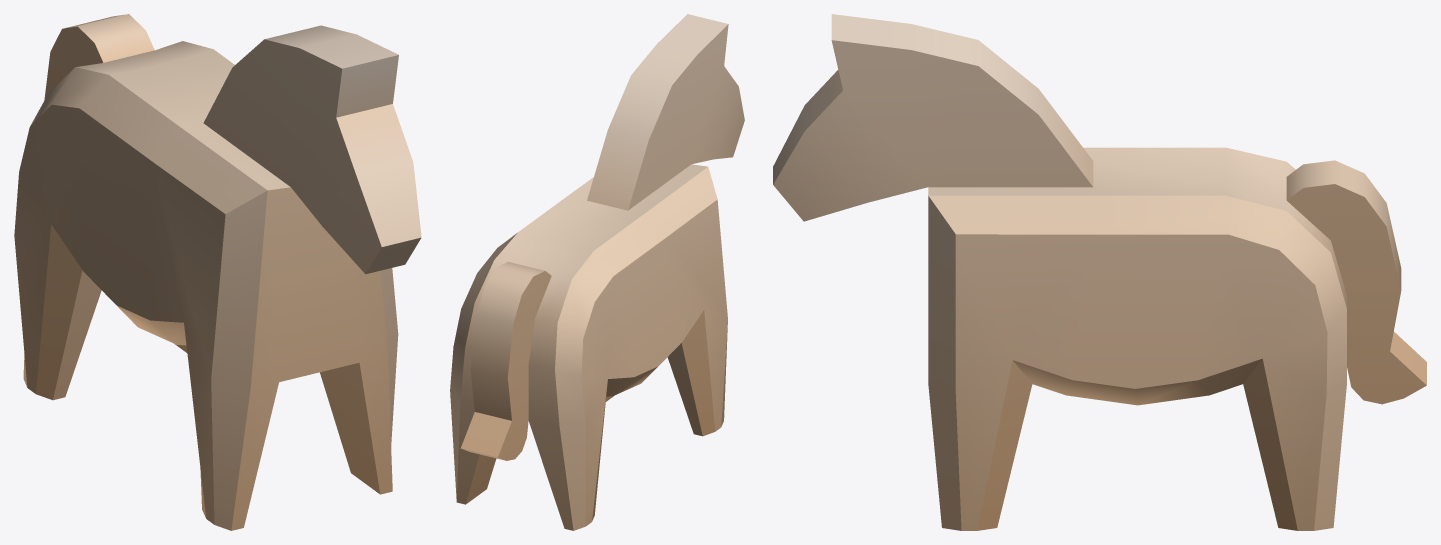
File: horse_a.glb
3 views of the same model, side by side, from view 1: azimuth 30°, elevation 25°; view 2: azimuth 150°, elevation 25°; view 3: azimuth 270°, elevation 25° (orthographic). The views are drawn at different scales.
Parts seen in each view (by area): view 1: horse_A; view 2: horse_A; view 3: horse_A.
Boxes of the visible parts, x1,y1,x2,y2 form: horse_A: (14,14,421,530); horse_A: (450,14,744,530); horse_A: (773,14,1426,530).
Bounding box in the file's own units: 0.2406 × 0.6051 × 0.773.
1 material, 1 textured.
